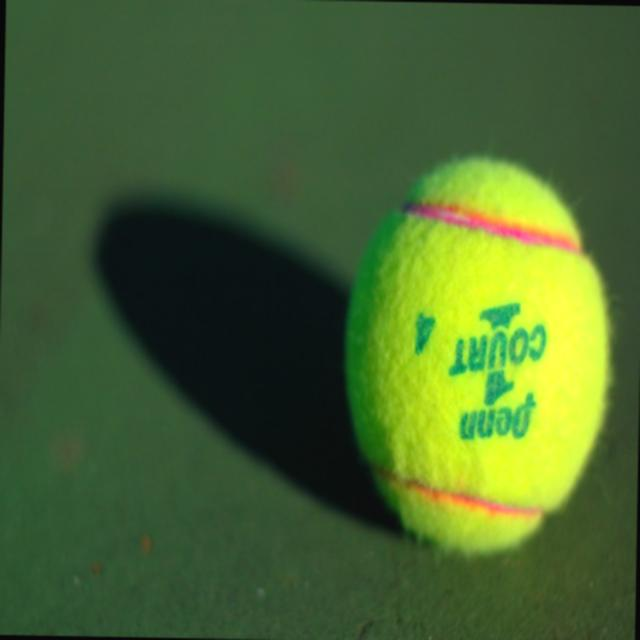Tennis Ball: (340, 148, 621, 558)
